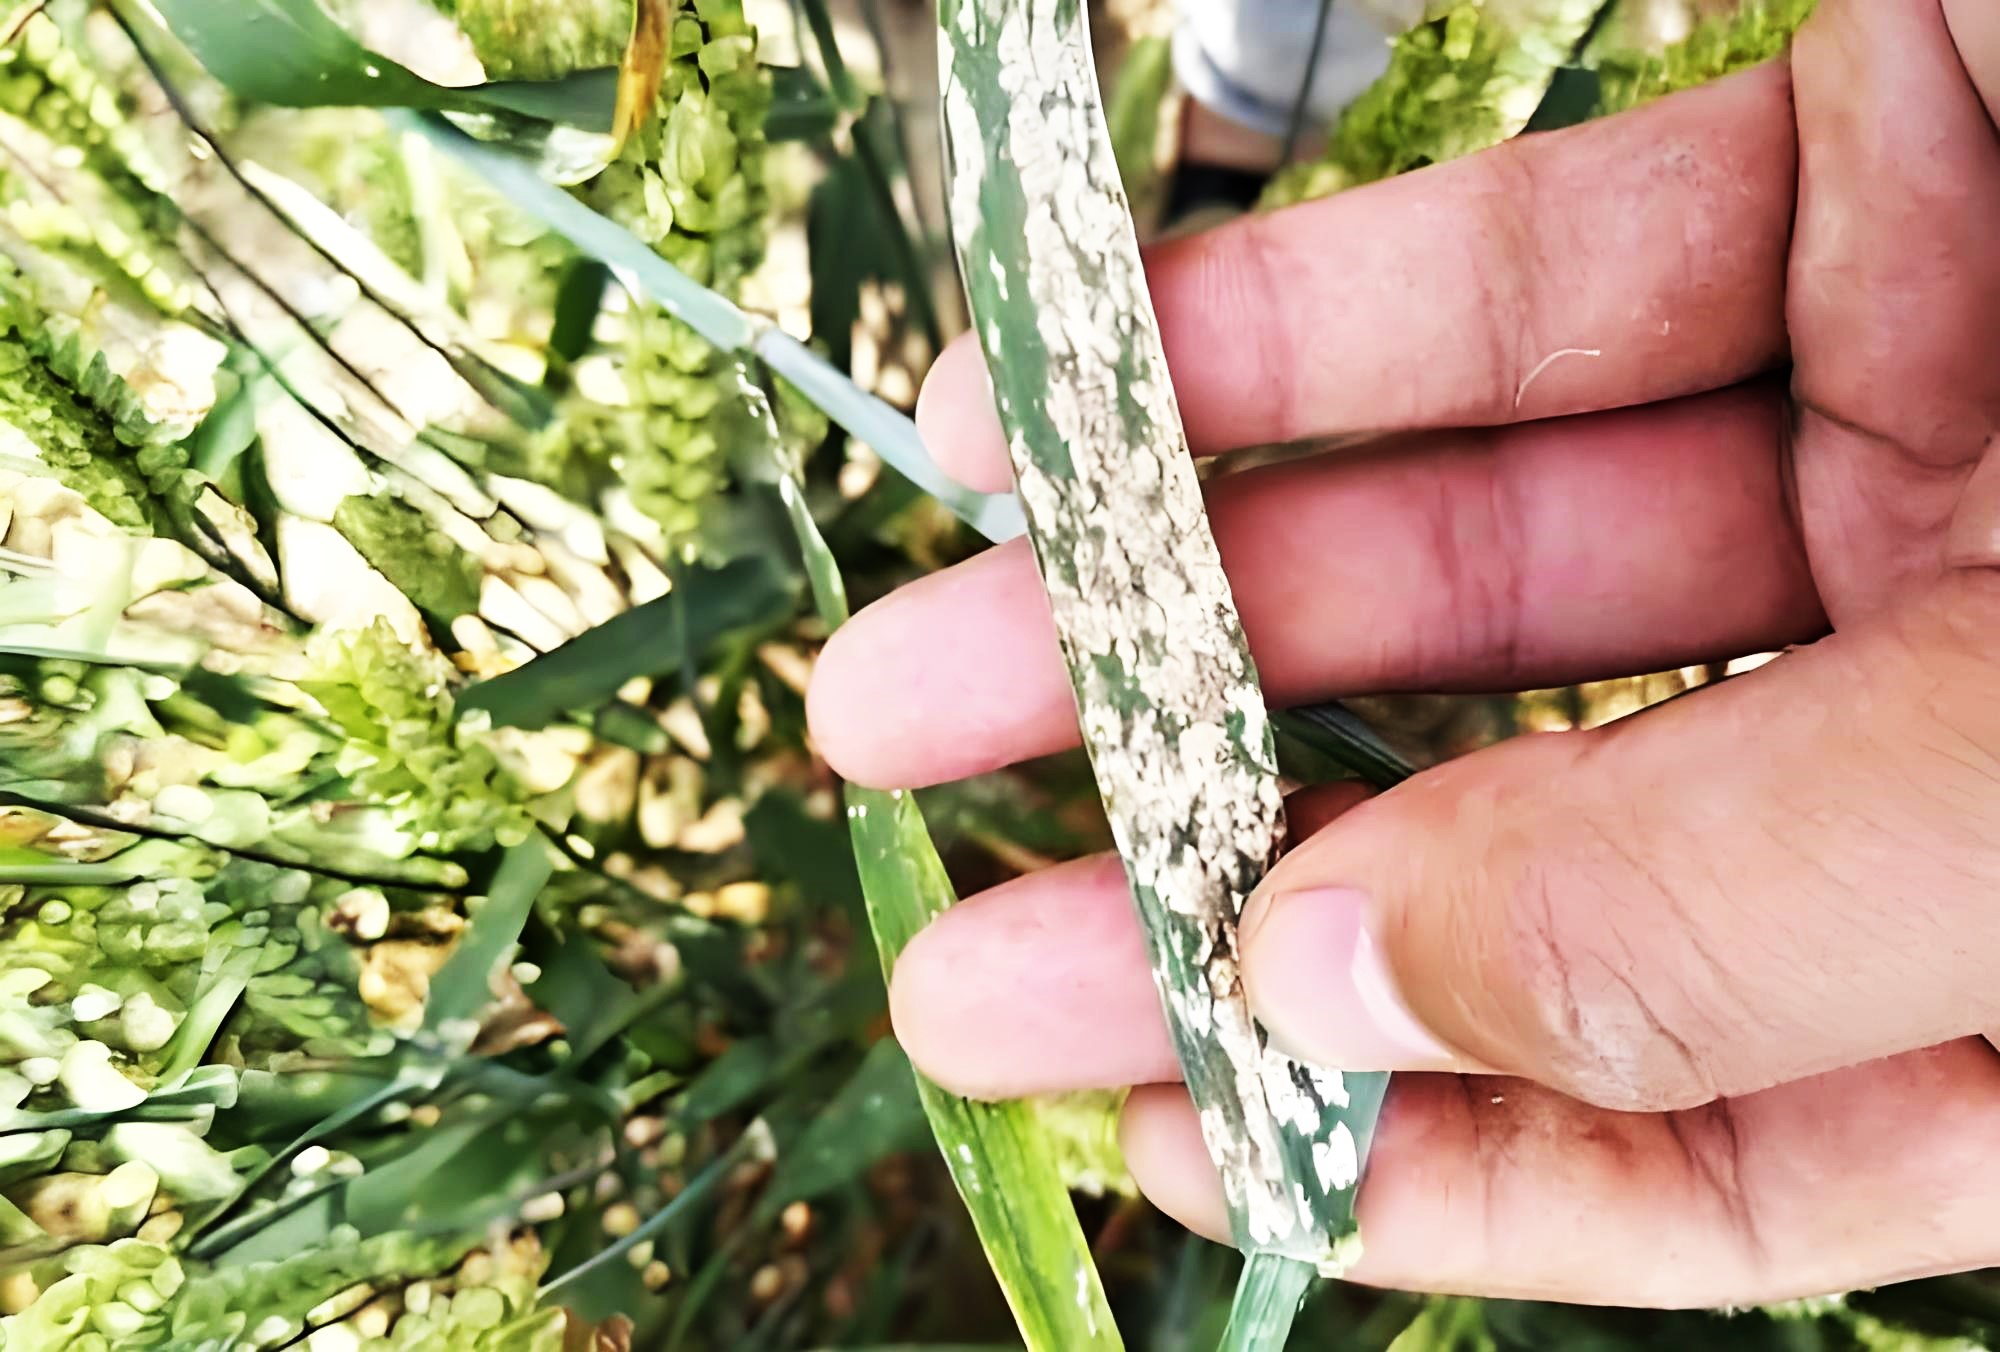Powdery Mildew: (935, 20, 1370, 1225)
